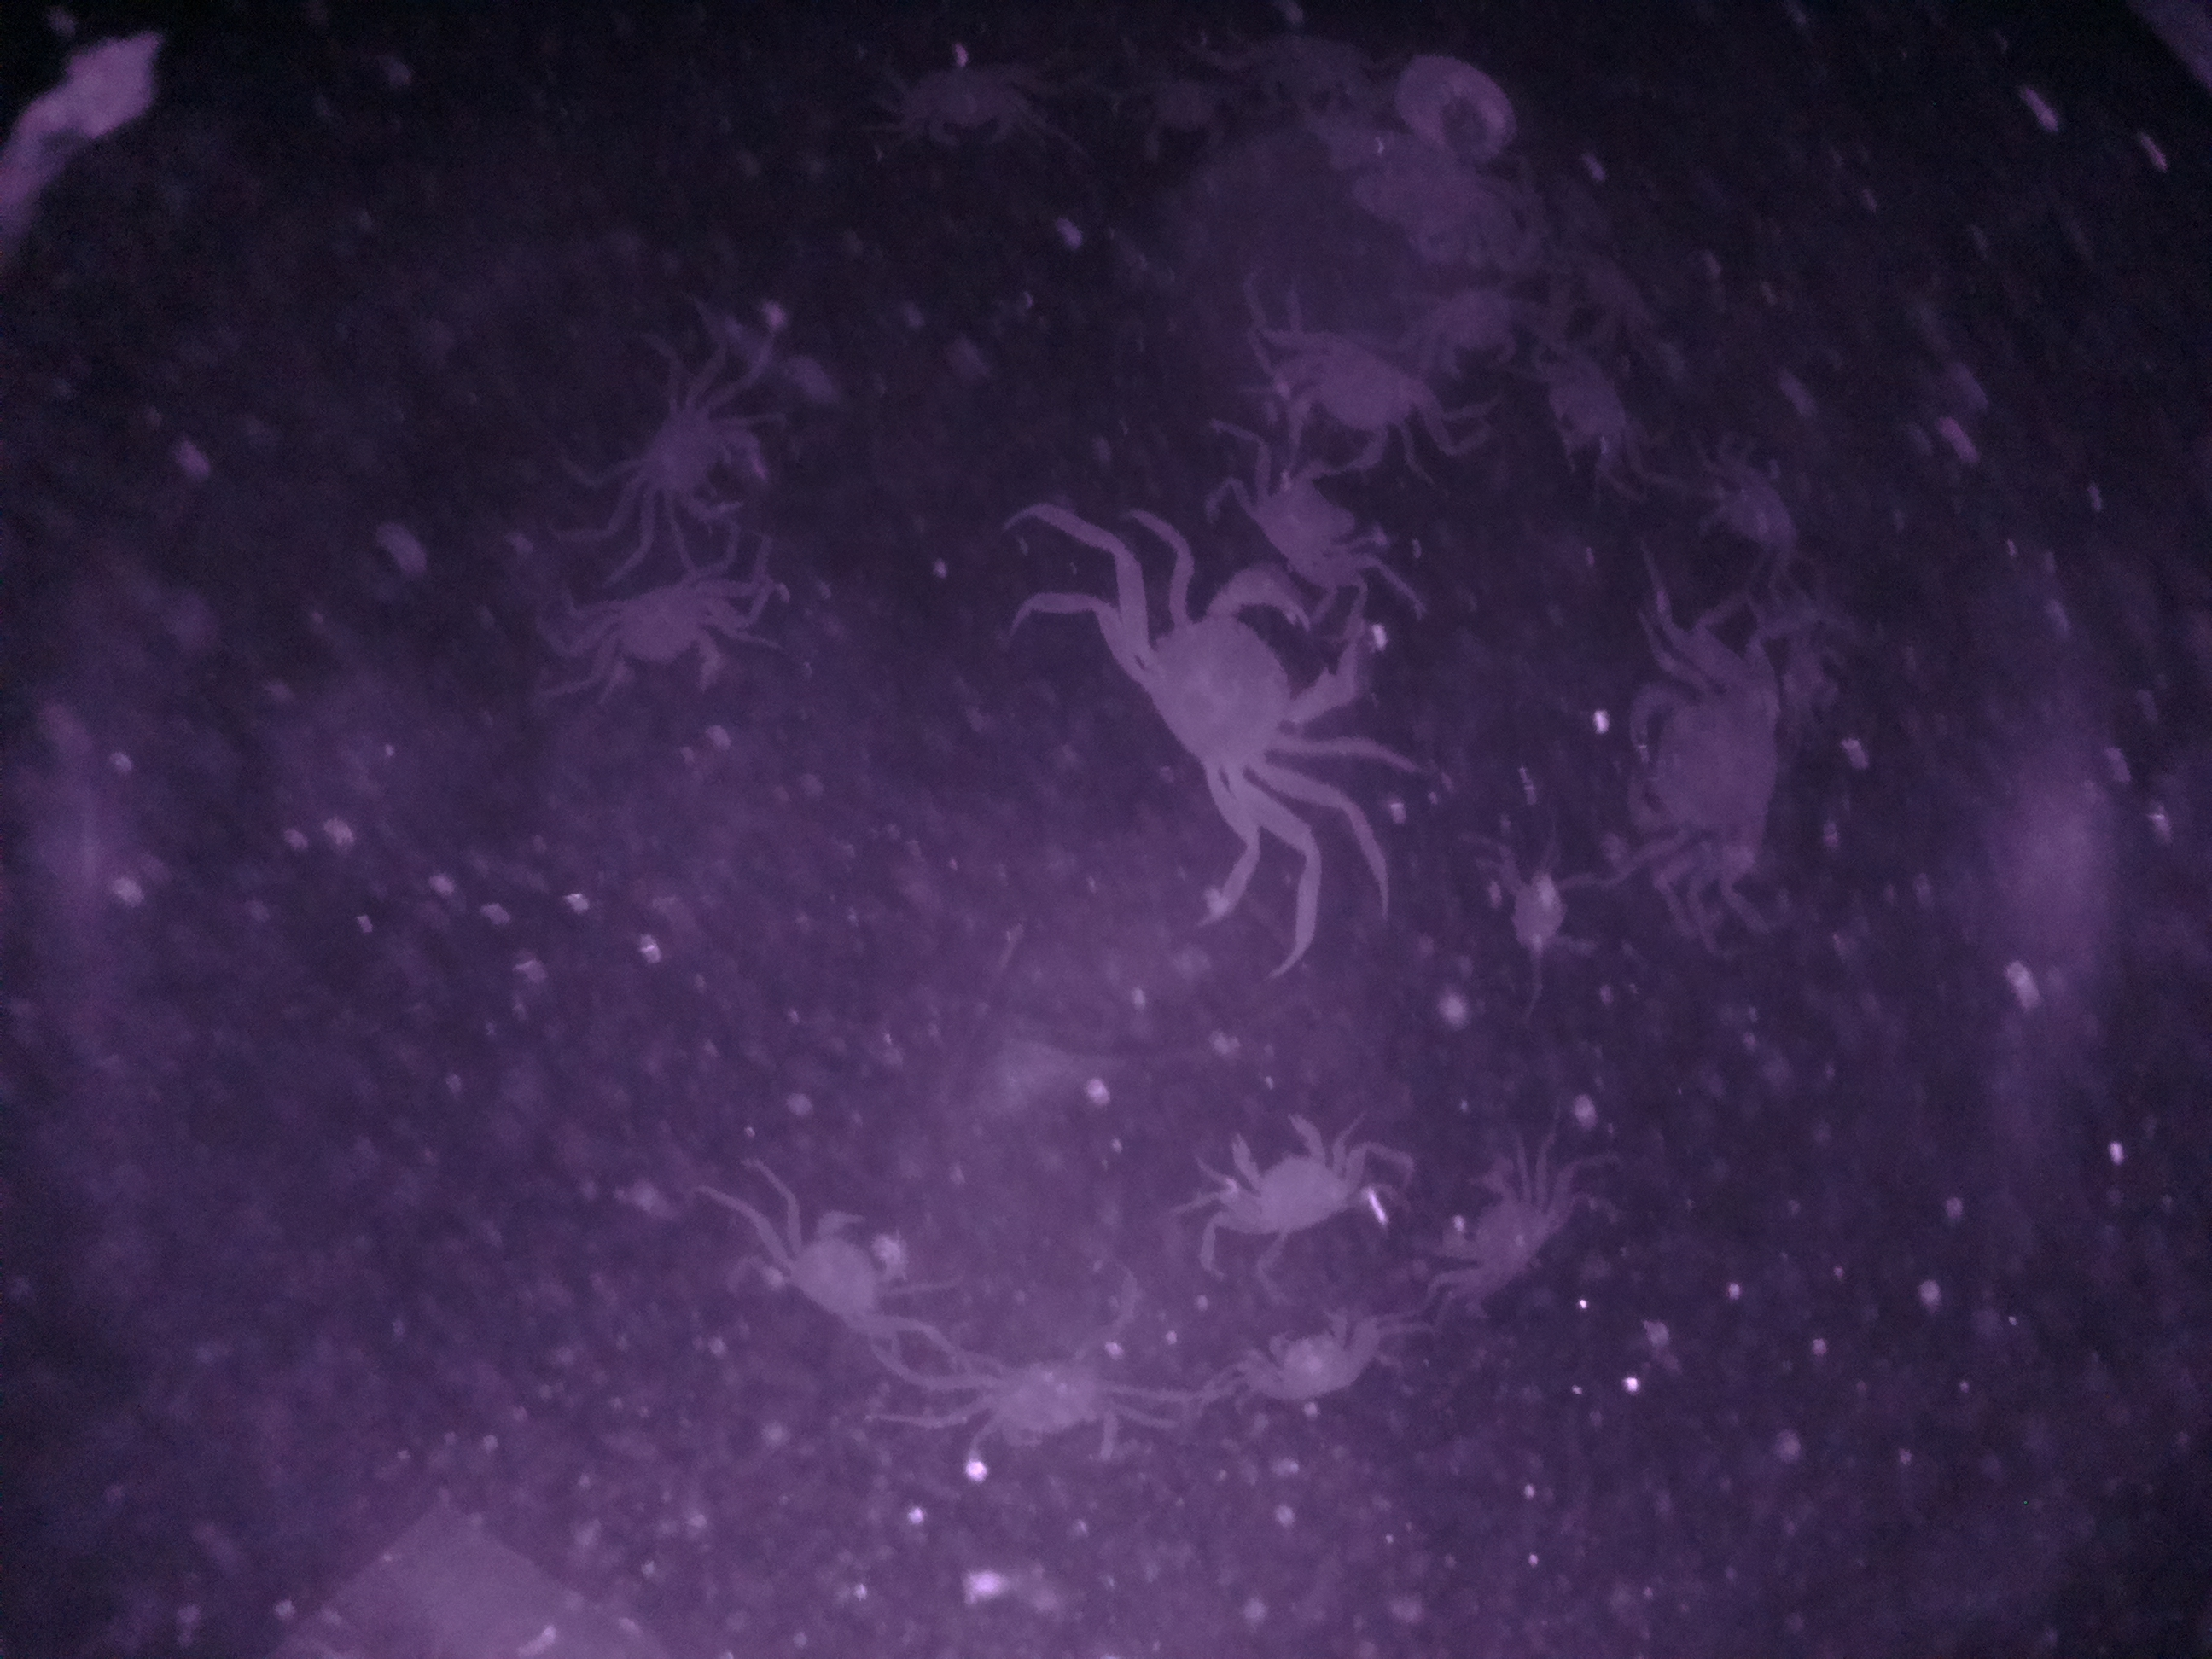Crab: (1087, 558, 1374, 835), (1602, 653, 1810, 884), (1256, 314, 1470, 484), (1193, 1096, 1369, 1265), (597, 369, 779, 532), (561, 561, 751, 713), (740, 1204, 935, 1349), (1420, 1155, 1576, 1316), (1233, 1300, 1372, 1427)
